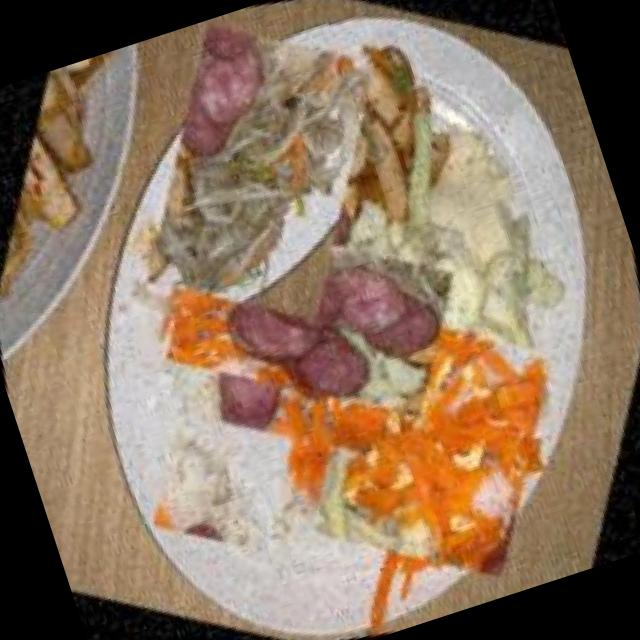carrot_eggs: (234, 241, 629, 640)
chinese_sausage: (120, 126, 503, 510)
mung_bean_sprouts: (66, 0, 459, 382)
rice: (112, 372, 334, 594)
